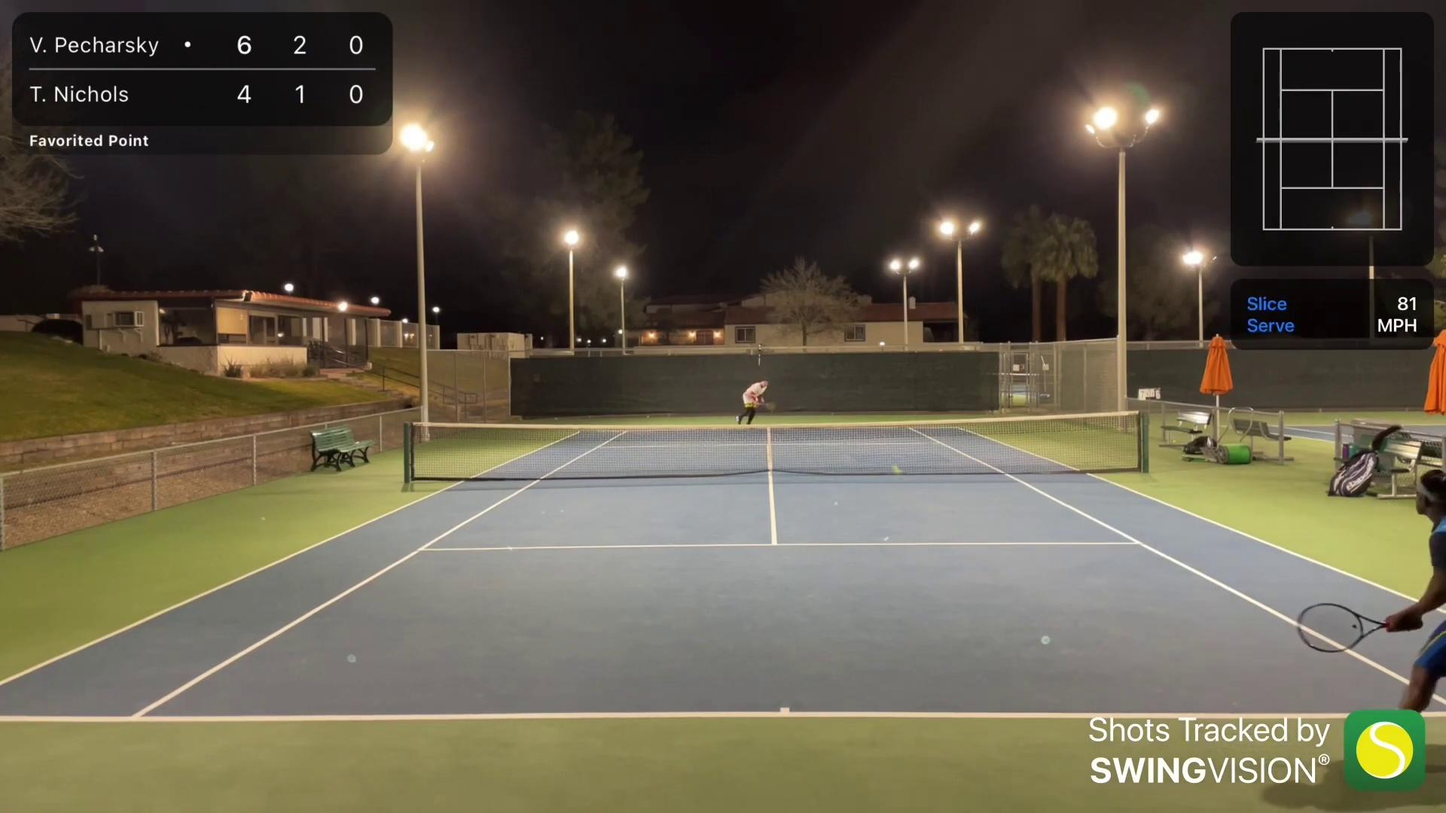ball: (889, 465, 904, 479)
